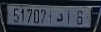0: (33, 8, 39, 24)
1: (20, 8, 26, 24)
5: (13, 8, 20, 23)
6: (76, 10, 84, 25)
7: (40, 9, 47, 24), (27, 8, 33, 24)
d: (55, 12, 64, 22)
